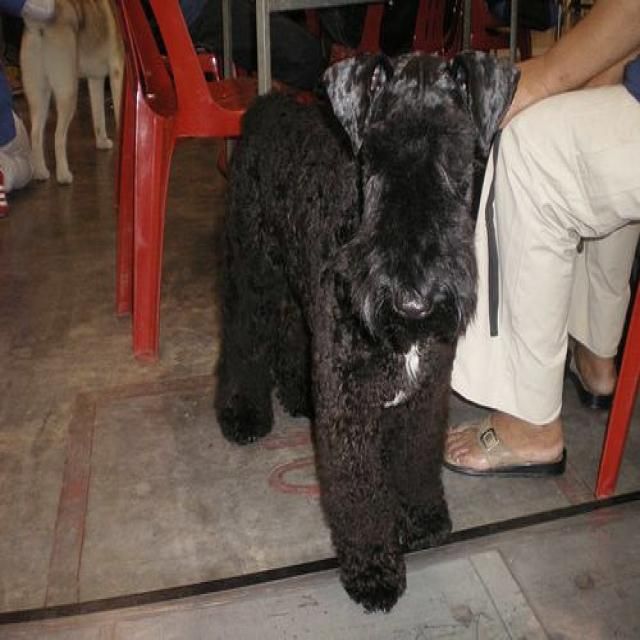standard_schnauzer: (214, 50, 524, 616)
